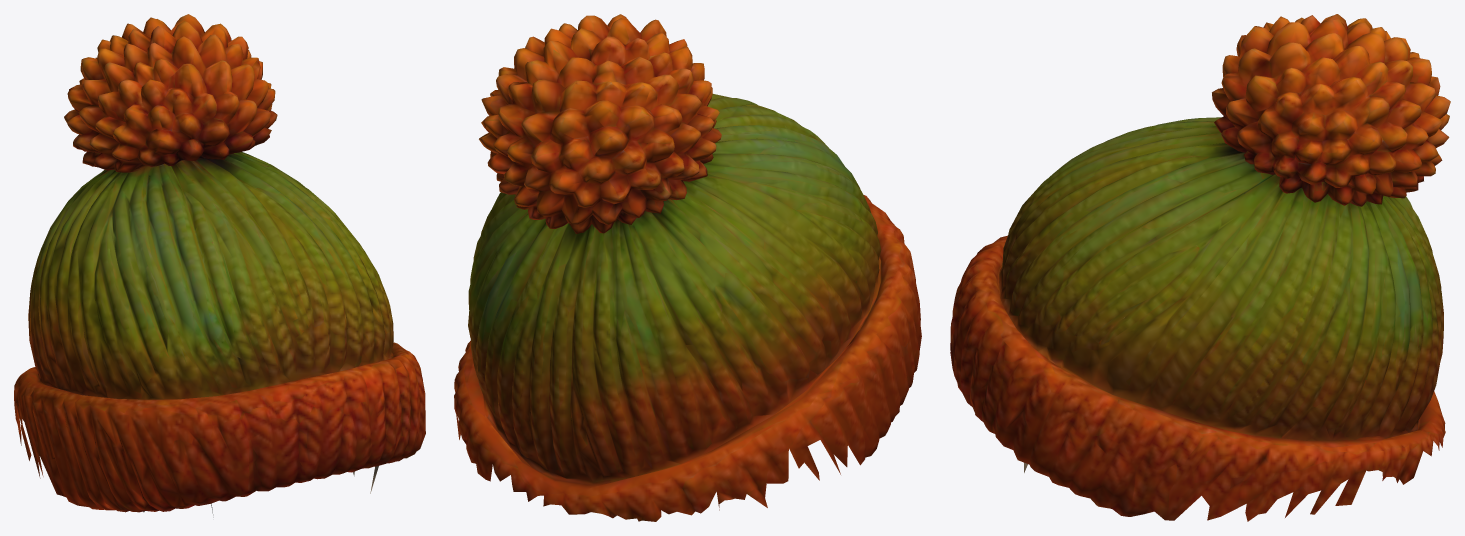
The picture shows the model from 3 angles, left to right: view 1: azimuth 30°, elevation 25°; view 2: azimuth 150°, elevation 25°; view 3: azimuth 270°, elevation 25°; orthographic projection. The views are drawn at different scales.
Parts seen in each view (by area): view 1: material; view 2: material; view 3: material.
Part boxes in pixels (bbox=[...]): material: bbox=[14, 14, 425, 517]; material: bbox=[454, 14, 921, 521]; material: bbox=[950, 14, 1450, 521].
Bounding box in the file's own units: 0.5024 × 0.566 × 0.6074.
1 material, 1 textured.
